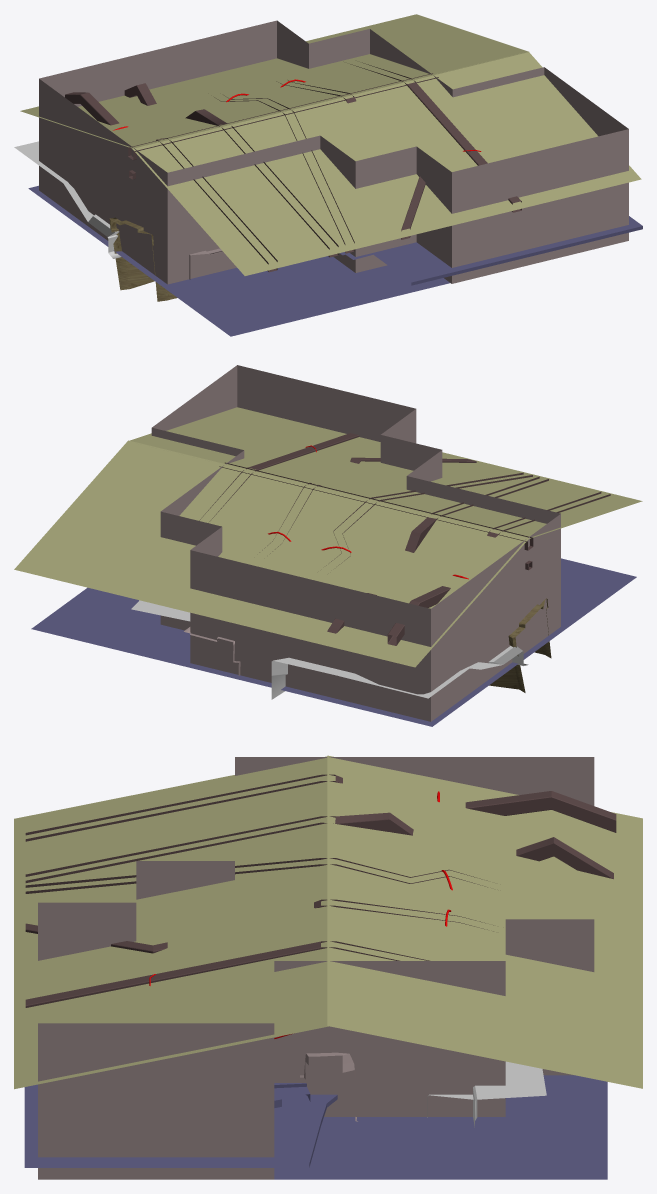
Rendered from Nivel_1_Probando (2).fbx.
3 views of the same model, one above another, from view 1: azimuth 30°, elevation 25°; view 2: azimuth 150°, elevation 25°; view 3: azimuth 270°, elevation 25° (orthographic). The views are drawn at different scales.
Parts seen in each view (by area): view 1: Techo, Paredes, PISO1, Vigas, Protuberancia_Piso, Protuberancia_Normal; view 2: Techo, Paredes, PISO1, Vigas, Protuberancia_Piso, Protuberancia_Normal; view 3: Techo, Paredes, PISO1, Vigas, Protuberancia_Piso.
Boxes of the visible parts, x1=… form: Techo: x1=20, y1=14, x2=641, y2=275; Paredes: x1=39, y1=20, x2=628, y2=284; PISO1: x1=28, y1=185, x2=449, y2=336; Vigas: x1=65, y1=62, x2=521, y2=272; Protuberancia_Piso: x1=14, y1=141, x2=642, y2=285; Protuberancia_Normal: x1=109, y1=217, x2=177, y2=301; Techo: x1=14, y1=407, x2=642, y2=667; Paredes: x1=151, y1=365, x2=560, y2=721; PISO1: x1=31, y1=558, x2=636, y2=726; Vigas: x1=199, y1=433, x2=610, y2=645; Protuberancia_Piso: x1=131, y1=600, x2=528, y2=699; Protuberancia_Normal: x1=489, y1=598, x2=551, y2=692; Techo: x1=14, y1=755, x2=642, y2=1089; Paredes: x1=38, y1=757, x2=594, y2=1179; PISO1: x1=274, y1=1075, x2=607, y2=1179; Vigas: x1=25, y1=774, x2=616, y2=1007; Protuberancia_Piso: x1=24, y1=1061, x2=546, y2=1167.
Size of the model in its own units: 13.47 by 4.76 by 12.78.
